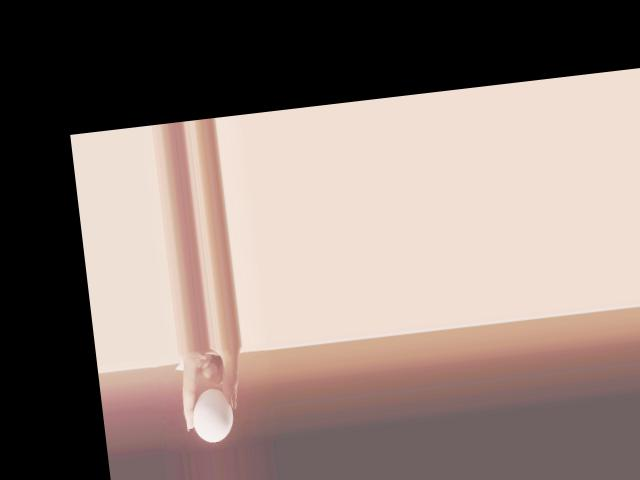egg: (189, 386, 236, 444)
